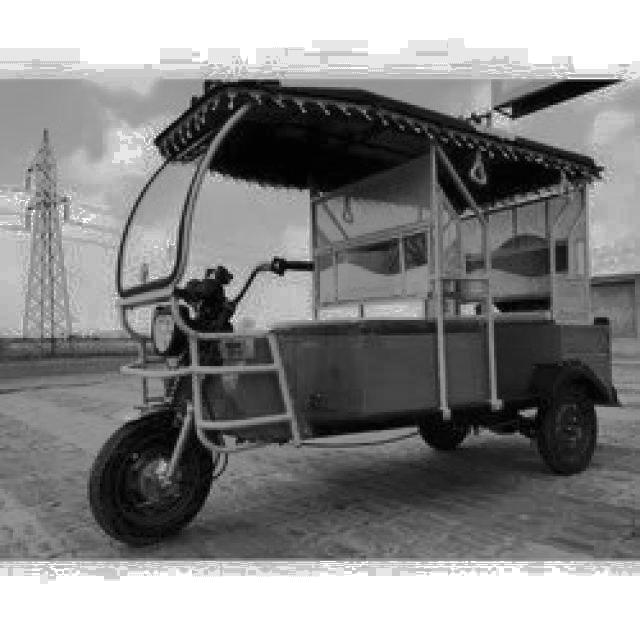Toto: (91, 80, 621, 548)
